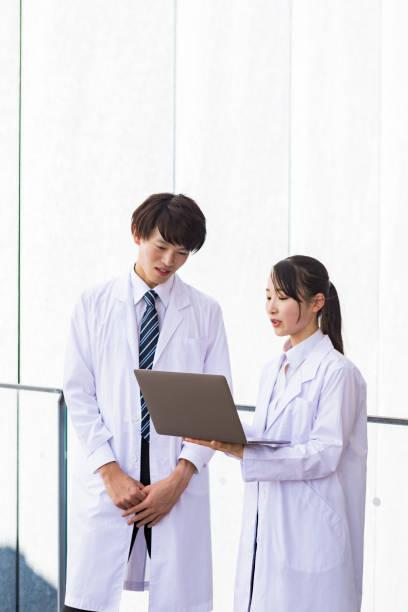lab_coat: (248, 342, 369, 611)
